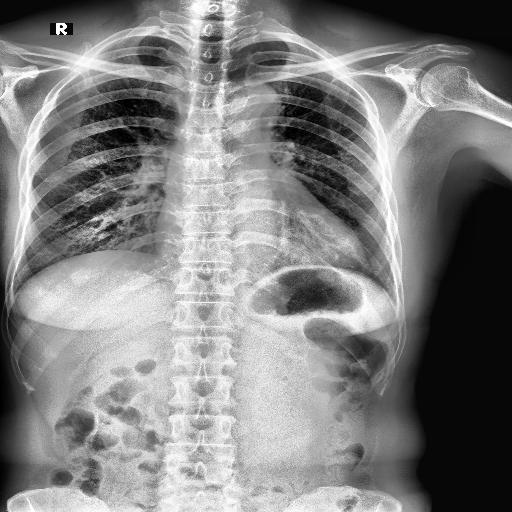0- Aortic enlargement: (208, 76, 282, 140), (220, 80, 284, 146), (212, 79, 274, 125)
3- Cardiomegaly: (154, 206, 366, 272), (148, 217, 368, 279), (148, 223, 370, 283)
